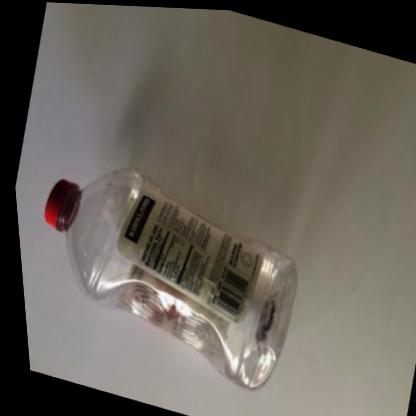Plastic: (41, 166, 293, 386)
